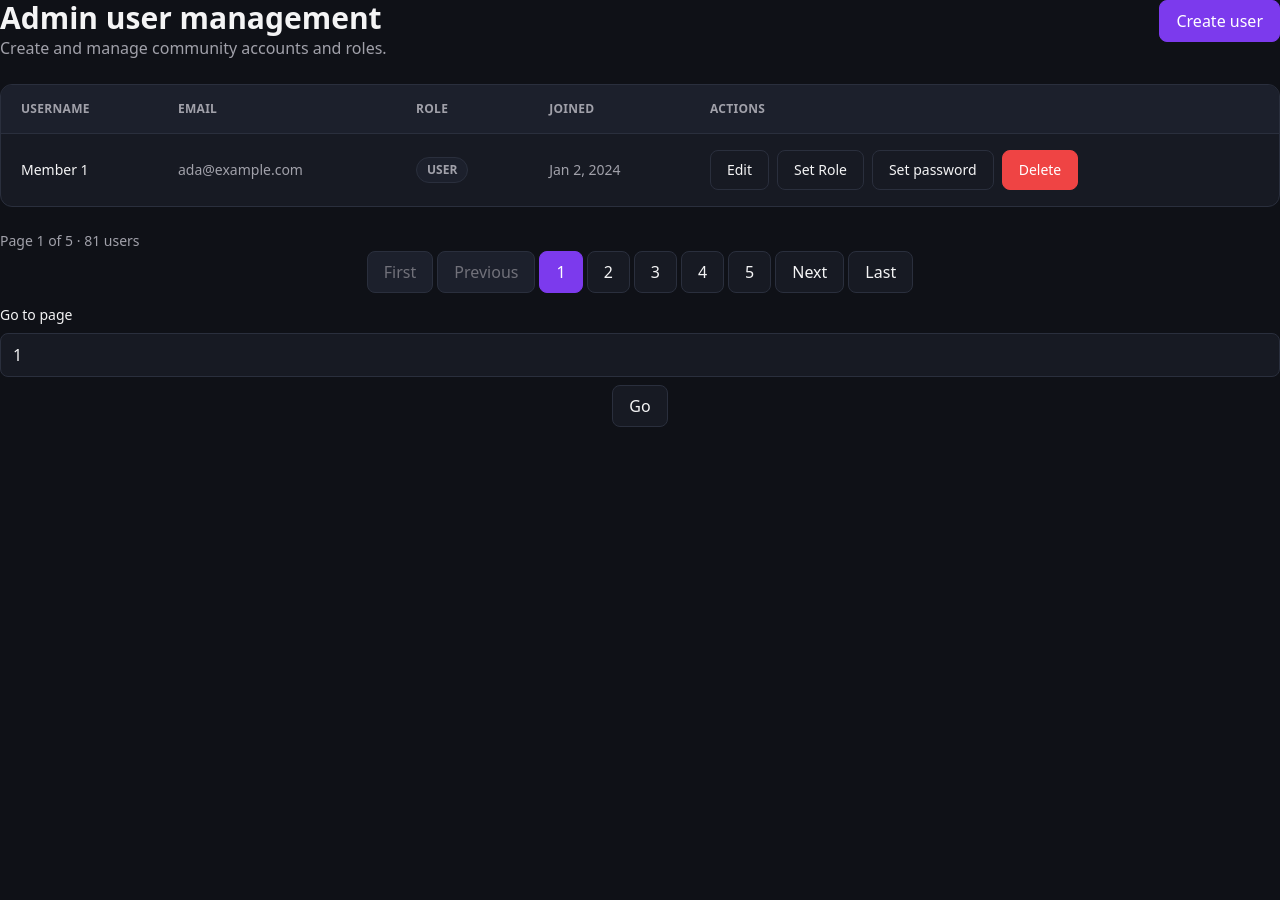
Test: pagination at the component API boundary › handles admin deletion shrinking the final page to zero pages without repeated requests
The image size is (1280, 900).
Expected: the text "Member 1" is shown, [1,134,158,206]
Click the button with aria-label "Last page".
click(881, 272)  # box [848,251,913,293]
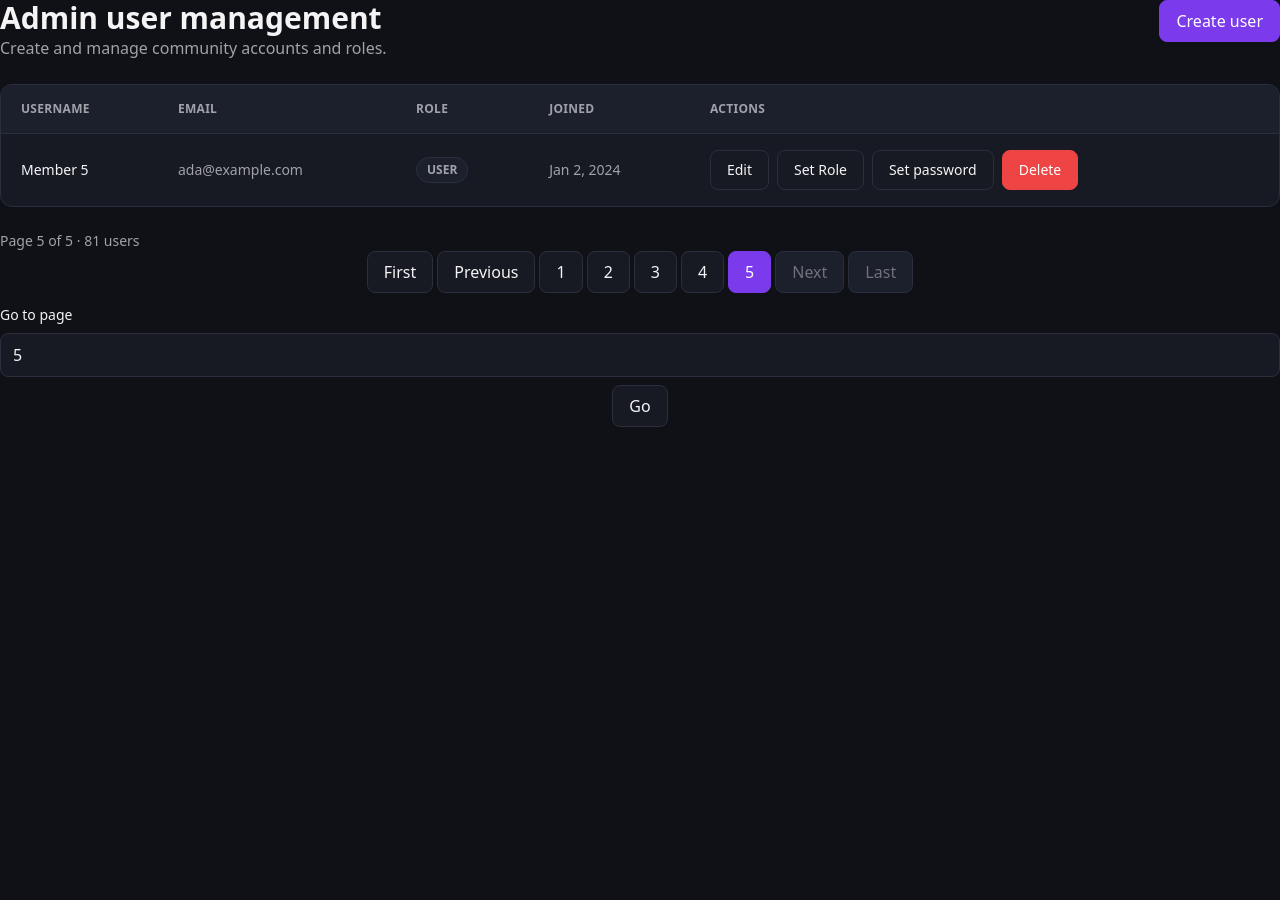
Expected: the text "Member 5" is shown, [1,134,158,206]
Click the button with aria-label "Delete Member 5".
click(1040, 170)  # box [1002,150,1078,190]
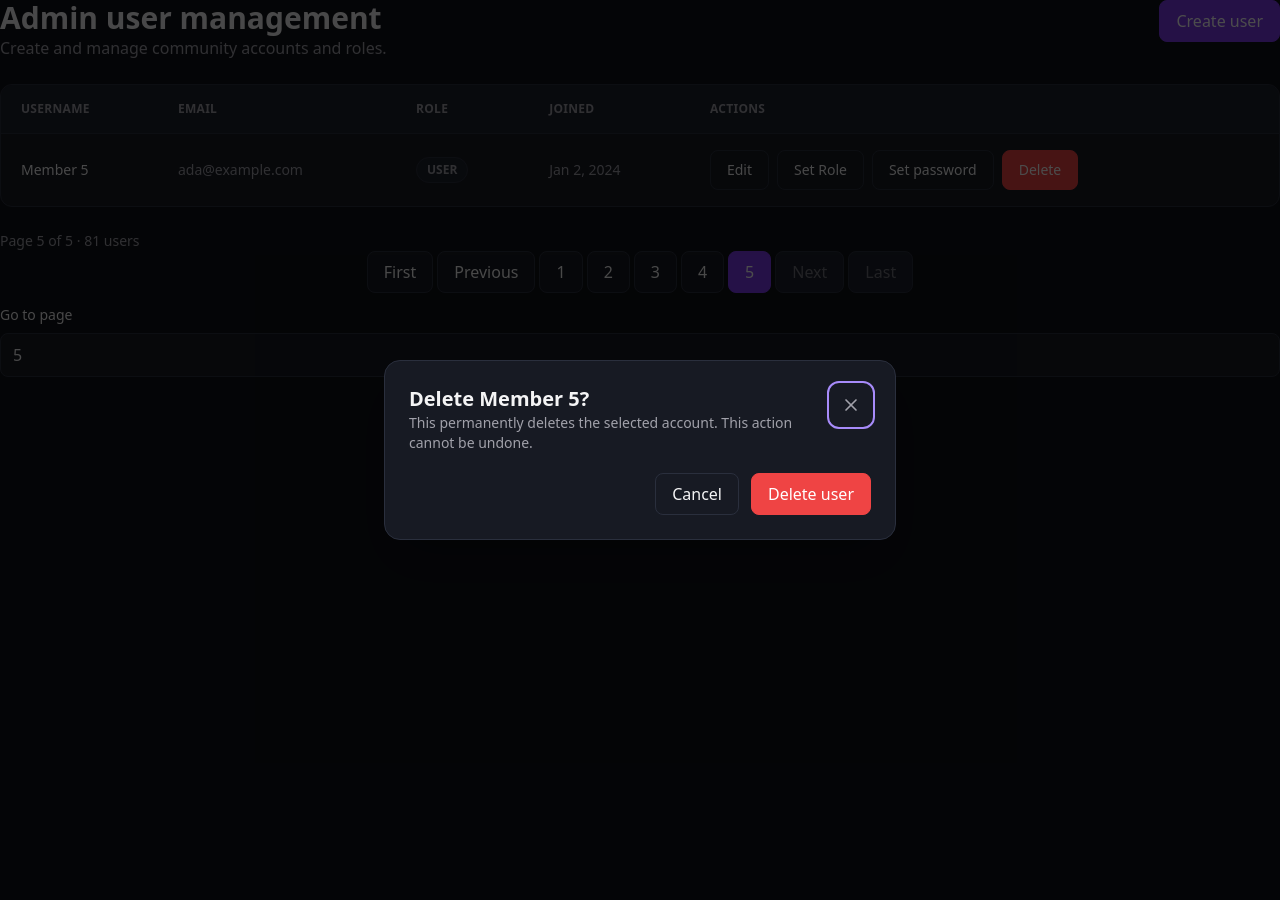
Click the button "Delete user".
click(811, 494)  # box [751,473,871,515]
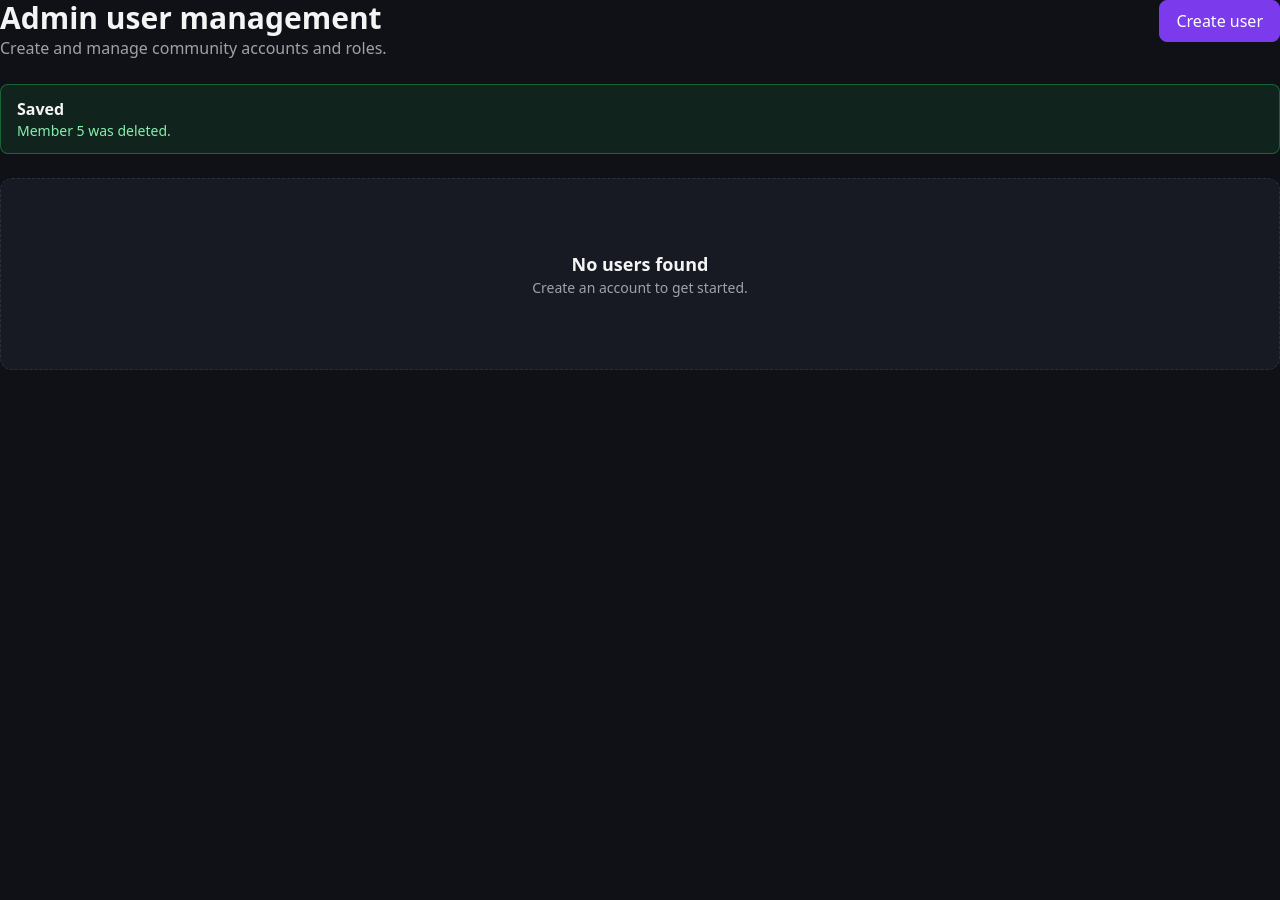
Expected: the heading "No users found" is shown, [572,250,708,278]
Expected: the navigation bar "Pagination" is gone
